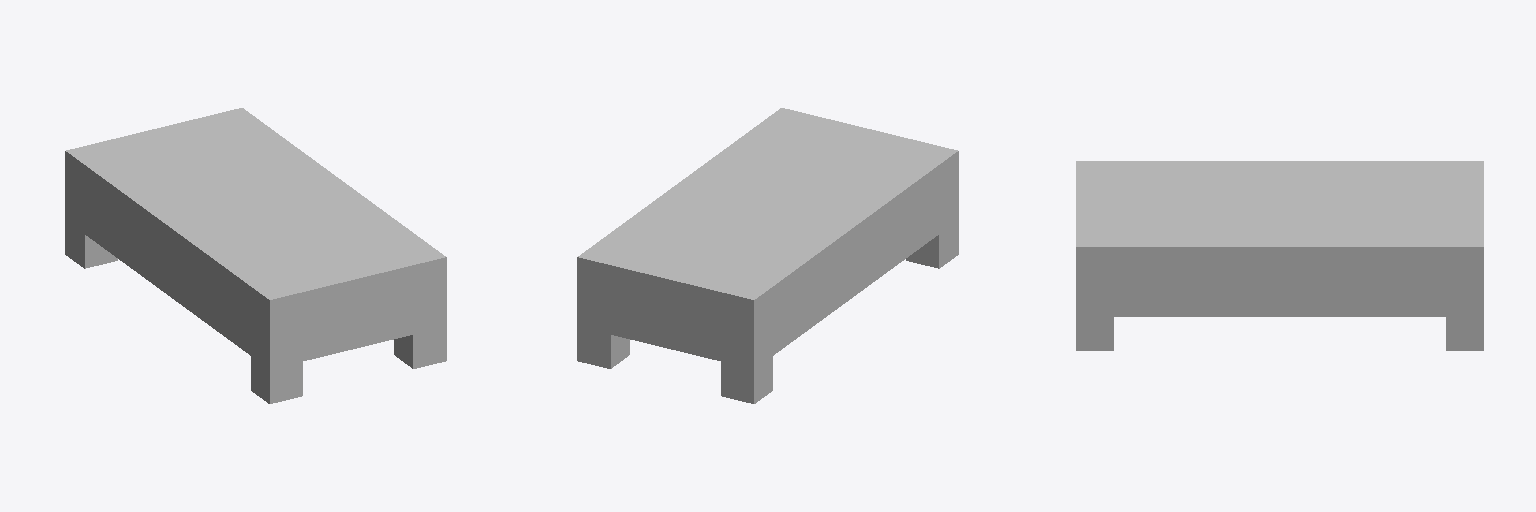
The model's file is bed.json.obj.
The picture shows the model from 3 angles: view 1: azimuth 30°, elevation 25°; view 2: azimuth 150°, elevation 25°; view 3: azimuth 270°, elevation 25°; orthographic projection.
Parts seen in each view (by area): view 1: head, foot, leg2, leg1, leg4; view 2: foot, head, leg4, leg3, leg2; view 3: head, foot, leg1, leg3.
Part boxes in pixels (x1,y1,x2,y2): head: (168, 182, 446, 369); foot: (65, 108, 343, 294); leg2: (251, 356, 302, 403); leg1: (394, 327, 446, 368); leg4: (65, 220, 117, 268); foot: (577, 182, 855, 369); head: (680, 108, 958, 294); leg4: (721, 356, 772, 403); leg3: (577, 327, 629, 368); leg2: (906, 220, 958, 268); head: (1076, 161, 1279, 316); foot: (1280, 161, 1483, 316); leg1: (1076, 317, 1113, 350); leg3: (1446, 317, 1483, 350).
Bounding box in the file's own units: 1 × 0.5625 × 2.